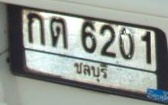txt01: (24, 11, 46, 46)
txt16: (48, 16, 69, 51)
